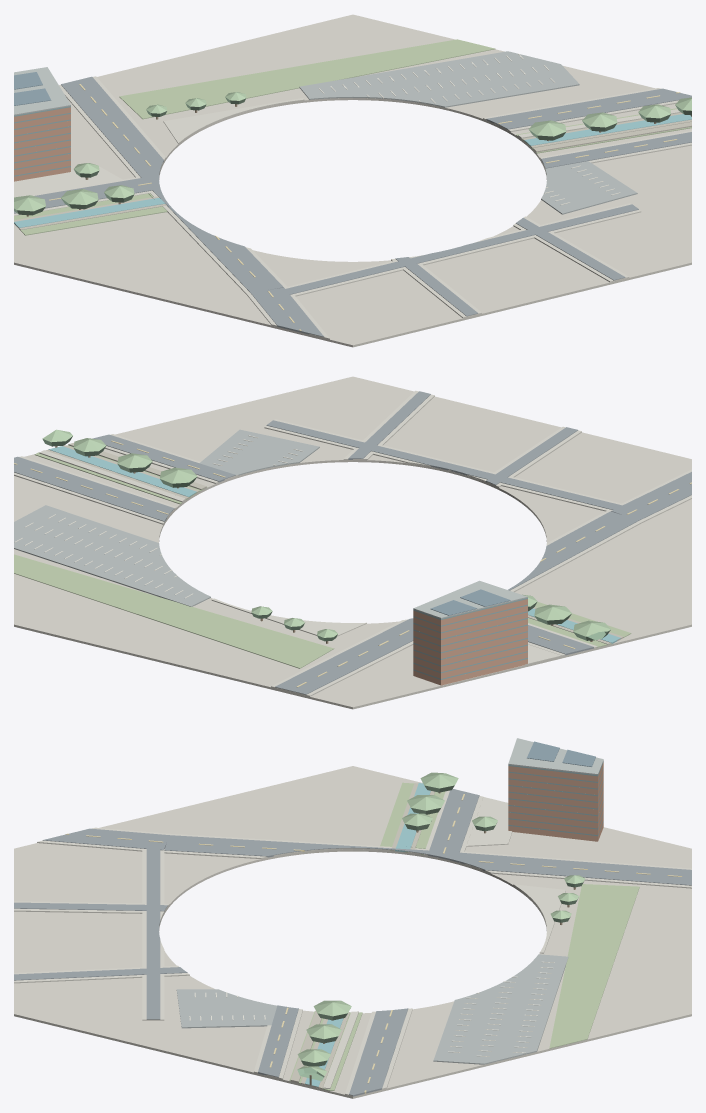
File: surround-P03.glb
The picture shows the model from 3 angles, top to bottom: view 1: azimuth 30°, elevation 25°; view 2: azimuth 150°, elevation 25°; view 3: azimuth 270°, elevation 25°; orthographic projection.
Parts seen in each view (by area): view 1: P03_neutral, P03_road, P03_parking, P03_pave, P03_grass, P03_brick, P03_tree2, P03_bank, P03_water, P03_tree, P03_roof, P03_glass (+3 smaller); view 2: P03_neutral, P03_road, P03_parking, P03_grass, P03_pave, P03_brick, P03_tree2, P03_glass, P03_water, P03_roof, P03_tree, P03_bank (+3 smaller); view 3: P03_neutral, P03_road, P03_parking, P03_pave, P03_grass, P03_brick, P03_tree2, P03_glass, P03_roof, P03_tree, P03_bank, P03_white (+3 smaller).
Boxes of the visible parts, <box> form: P03_neutral: <box>14,14,691,347</box>; P03_road: <box>14,76,691,336</box>; P03_parking: <box>299,51,637,214</box>; P03_pave: <box>14,76,691,339</box>; P03_grass: <box>14,39,691,235</box>; P03_brick: <box>14,107,70,181</box>; P03_tree2: <box>14,92,691,211</box>; P03_bank: <box>14,112,691,230</box>; P03_water: <box>14,114,691,227</box>; P03_tree: <box>14,97,691,215</box>; P03_roof: <box>14,67,70,115</box>; P03_glass: <box>14,106,70,176</box>; P03_neutral: <box>14,376,691,709</box>; P03_road: <box>14,391,691,694</box>; P03_parking: <box>14,429,319,606</box>; P03_grass: <box>14,445,631,668</box>; P03_pave: <box>14,390,691,696</box>; P03_brick: <box>413,599,527,685</box>; P03_tree2: <box>42,429,610,637</box>; P03_glass: <box>413,598,527,679</box>; P03_water: <box>48,446,620,643</box>; P03_roof: <box>413,580,527,618</box>; P03_tree: <box>42,436,610,641</box>; P03_bank: <box>45,443,623,644</box>; P03_neutral: <box>14,766,691,1098</box>; P03_road: <box>14,789,691,1096</box>; P03_parking: <box>176,954,568,1064</box>; P03_pave: <box>14,790,691,1096</box>; P03_grass: <box>289,782,639,1090</box>; P03_brick: <box>508,762,603,841</box>; P03_tree2: <box>297,772,585,1075</box>; P03_glass: <box>508,761,603,836</box>; P03_roof: <box>508,738,603,775</box>; P03_tree: <box>297,785,583,1081</box>; P03_bank: <box>290,783,434,1089</box>; P03_white: <box>189,961,554,1056</box>.
Bounding box in the file's own units: 16.17 × 1.61 × 14.
